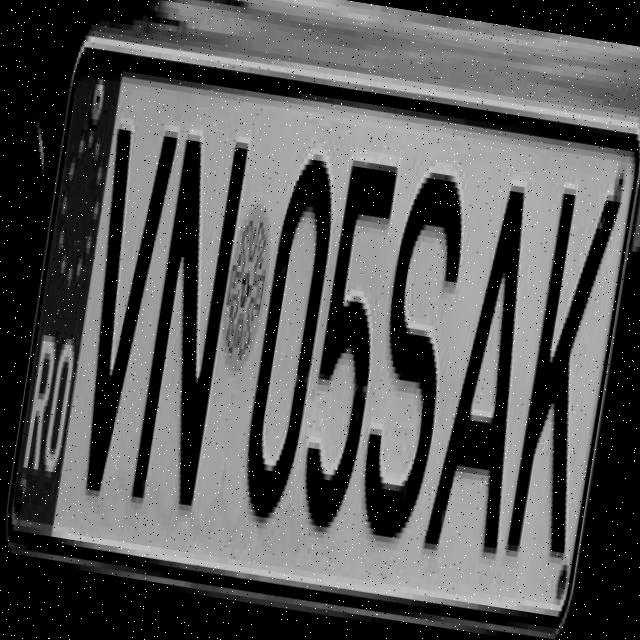EU: (7, 48, 640, 625)
Romanie: (9, 62, 123, 547)
